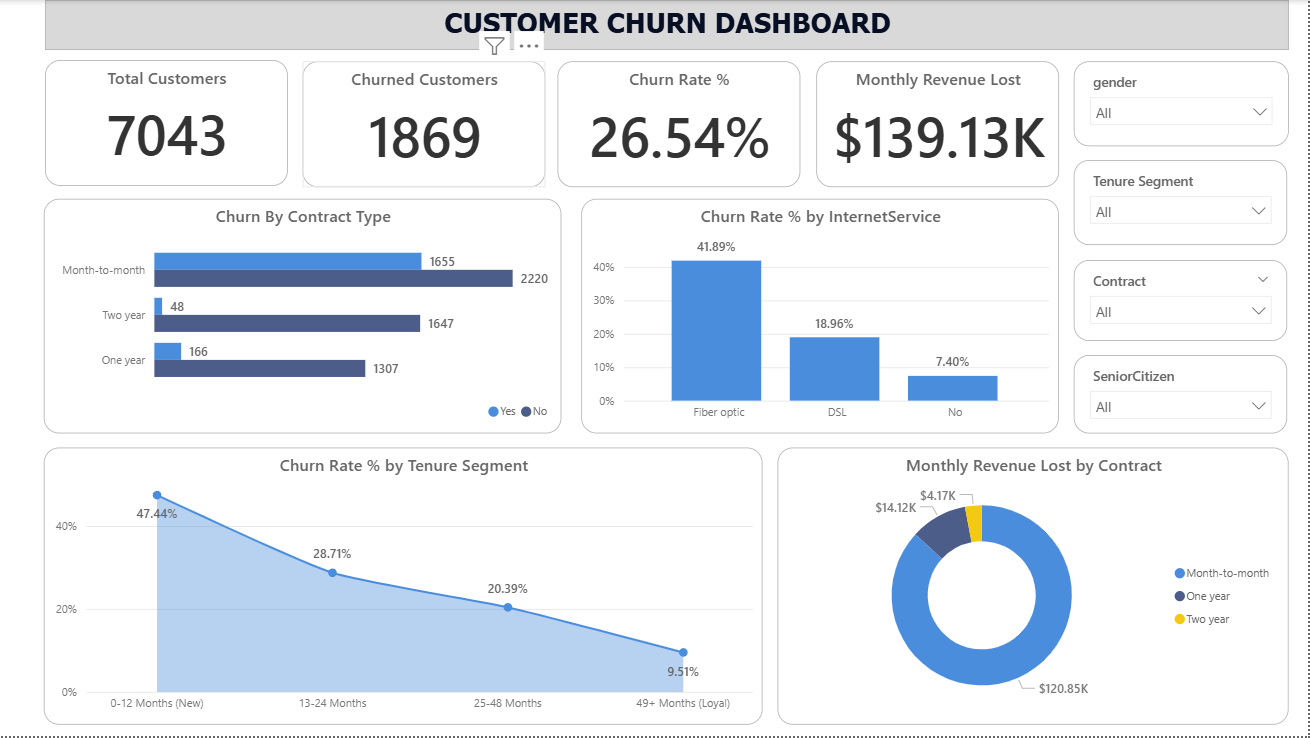

The page's visual inventory and layout, read from the dashboard file:
{"tool":"powerbi","page":{"name":"Overview","canvas":[1280,720],"ordinal":0},"visuals":[{"type":"card","title":"Total Customers","fields":{"Values":["WA_Fn-UseC_-Telco-Customer-Churn.Total Customers"]},"box":[44,58.7,237.2,123.5],"z":0},{"type":"clusteredBarChart","title":"Churn By Contract Type","fields":{"Category":["WA_Fn-UseC_-Telco-Customer-Churn.Contract"],"Y":["CountNonNull(WA_Fn-UseC_-Telco-Customer-Churn.customerID)"],"Series":["WA_Fn-UseC_-Telco-Customer-Churn.Churn"]},"box":[42.8,194.4,506.3,229.9],"z":1000},{"type":"areaChart","fields":{"Category":["WA_Fn-UseC_-Telco-Customer-Churn.Tenure Segment"],"Y":["WA_Fn-UseC_-Telco-Customer-Churn.Churn Rate %"]},"box":[42.8,437.8,703.1,271.5],"z":2000},{"type":"donutChart","fields":{"Category":["WA_Fn-UseC_-Telco-Customer-Churn.Contract"],"Y":["WA_Fn-UseC_-Telco-Customer-Churn.Monthly Revenue Lost"]},"box":[760.6,437.8,500.1,271.5],"z":3000},{"type":"clusteredColumnChart","fields":{"Y":["WA_Fn-UseC_-Telco-Customer-Churn.Churn Rate %"],"Category":["WA_Fn-UseC_-Telco-Customer-Churn.InternetService"]},"box":[568.6,194.4,467.1,229.9],"z":4000},{"type":"textbox","box":[44,0,1216.7,48.9],"z":5000},{"type":"card","title":"Churned Customers","fields":{"Values":["WA_Fn-UseC_-Telco-Customer-Churn.Churned Customers"]},"box":[295.9,59.9,237.2,123.5],"z":6000},{"type":"card","title":"Churn Rate %","fields":{"Values":["WA_Fn-UseC_-Telco-Customer-Churn.Churn Rate %"]},"box":[545.4,59.9,237.2,123.5],"z":7000},{"type":"card","title":"Monthly Revenue Lost","fields":{"Values":["WA_Fn-UseC_-Telco-Customer-Churn.Monthly Revenue Lost"]},"box":[798.5,59.9,237.2,123.5],"z":8000},{"type":"slicer","fields":{"Values":["WA_Fn-UseC_-Telco-Customer-Churn.gender"]},"box":[1050.4,59.9,210.3,83.2],"z":9000},{"type":"slicer","fields":{"Values":["WA_Fn-UseC_-Telco-Customer-Churn.Tenure Segment"]},"box":[1050.4,156.5,209.1,83.2],"z":10000},{"type":"slicer","fields":{"Values":["WA_Fn-UseC_-Telco-Customer-Churn.Contract"]},"box":[1050.4,254.3,209.1,79.5],"z":11000},{"type":"slicer","fields":{"Values":["WA_Fn-UseC_-Telco-Customer-Churn.SeniorCitizen"]},"box":[1050.4,347.3,209.1,77],"z":12000}]}

Visuals, with their boxes in screenshot pixels (x1, y1, x2, y2), scaled from the page's 1280x720 canvas onto the 1310x739 screenshot:
"Total Customers" card: select_region(45, 60, 288, 187)
"Churn By Contract Type" clusteredBarChart: select_region(44, 200, 562, 435)
areaChart - WA_Fn-UseC_-Telco-Customer-Churn.Tenure Segment x WA_Fn-UseC_-Telco-Customer-Churn.Churn Rate %: select_region(44, 449, 763, 728)
donutChart - WA_Fn-UseC_-Telco-Customer-Churn.Contract x WA_Fn-UseC_-Telco-Customer-Churn.Monthly Revenue Lost: select_region(778, 449, 1290, 728)
clusteredColumnChart - WA_Fn-UseC_-Telco-Customer-Churn.Churn Rate % x WA_Fn-UseC_-Telco-Customer-Churn.InternetService: select_region(582, 200, 1060, 435)
textbox: select_region(45, 0, 1290, 50)
"Churned Customers" card: select_region(303, 61, 546, 188)
"Churn Rate %" card: select_region(558, 61, 801, 188)
"Monthly Revenue Lost" card: select_region(817, 61, 1060, 188)
slicer - WA_Fn-UseC_-Telco-Customer-Churn.gender: select_region(1075, 61, 1290, 147)
slicer - WA_Fn-UseC_-Telco-Customer-Churn.Tenure Segment: select_region(1075, 161, 1289, 246)
slicer - WA_Fn-UseC_-Telco-Customer-Churn.Contract: select_region(1075, 261, 1289, 343)
slicer - WA_Fn-UseC_-Telco-Customer-Churn.SeniorCitizen: select_region(1075, 356, 1289, 435)
